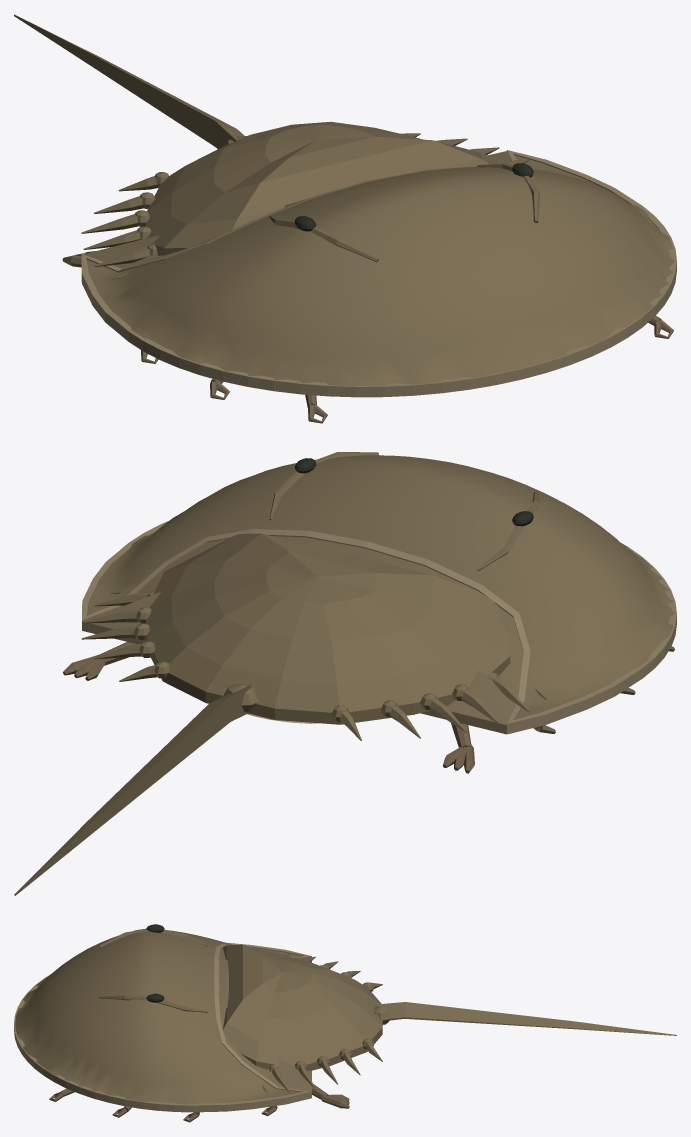
3 views of the same model, one above another, from view 1: azimuth 30°, elevation 25°; view 2: azimuth 150°, elevation 25°; view 3: azimuth 270°, elevation 25° (orthographic). The views are drawn at different scales.
Parts seen in each view (by area): view 1: Prosoma with marginal rim and ophthalmic ridges, Fused thoracetron with articulated marginal spines, Straight tapering articulated telson, Six paired prosomal appendages; view 2: Prosoma with marginal rim and ophthalmic ridges, Fused thoracetron with articulated marginal spines, Straight tapering articulated telson, Six paired prosomal appendages; view 3: Prosoma with marginal rim and ophthalmic ridges, Fused thoracetron with articulated marginal spines, Straight tapering articulated telson, Six paired prosomal appendages.
Part boxes in pixels (box(x1,y1,x2,y2)): Prosoma with marginal rim and ophthalmic ridges: box(81, 150, 676, 397); Fused thoracetron with articulated marginal spines: box(81, 121, 529, 279); Straight tapering articulated telson: box(14, 14, 246, 148); Six paired prosomal appendages: box(62, 251, 673, 423); Prosoma with marginal rim and ophthalmic ridges: box(82, 452, 676, 734); Fused thoracetron with articulated marginal spines: box(81, 533, 546, 740); Straight tapering articulated telson: box(14, 683, 258, 895); Six paired prosomal appendages: box(63, 642, 674, 773); Prosoma with marginal rim and ophthalmic ridges: box(14, 928, 311, 1112); Fused thoracetron with articulated marginal spines: box(222, 944, 382, 1092); Straight tapering articulated telson: box(374, 1002, 676, 1035); Six paired prosomal appendages: box(49, 1084, 349, 1122).
Size of the model in its own units: 0.104 by 0.027 by 0.178.
